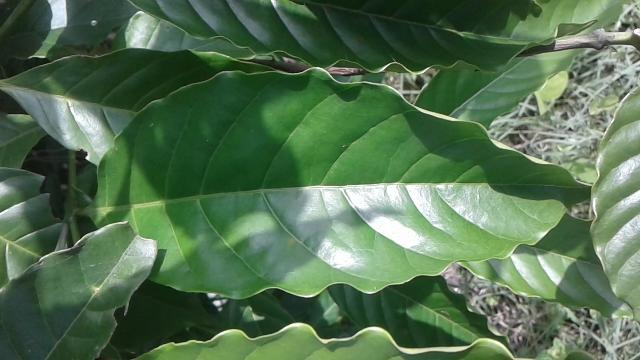rust_level_1: (90, 64, 594, 299)
